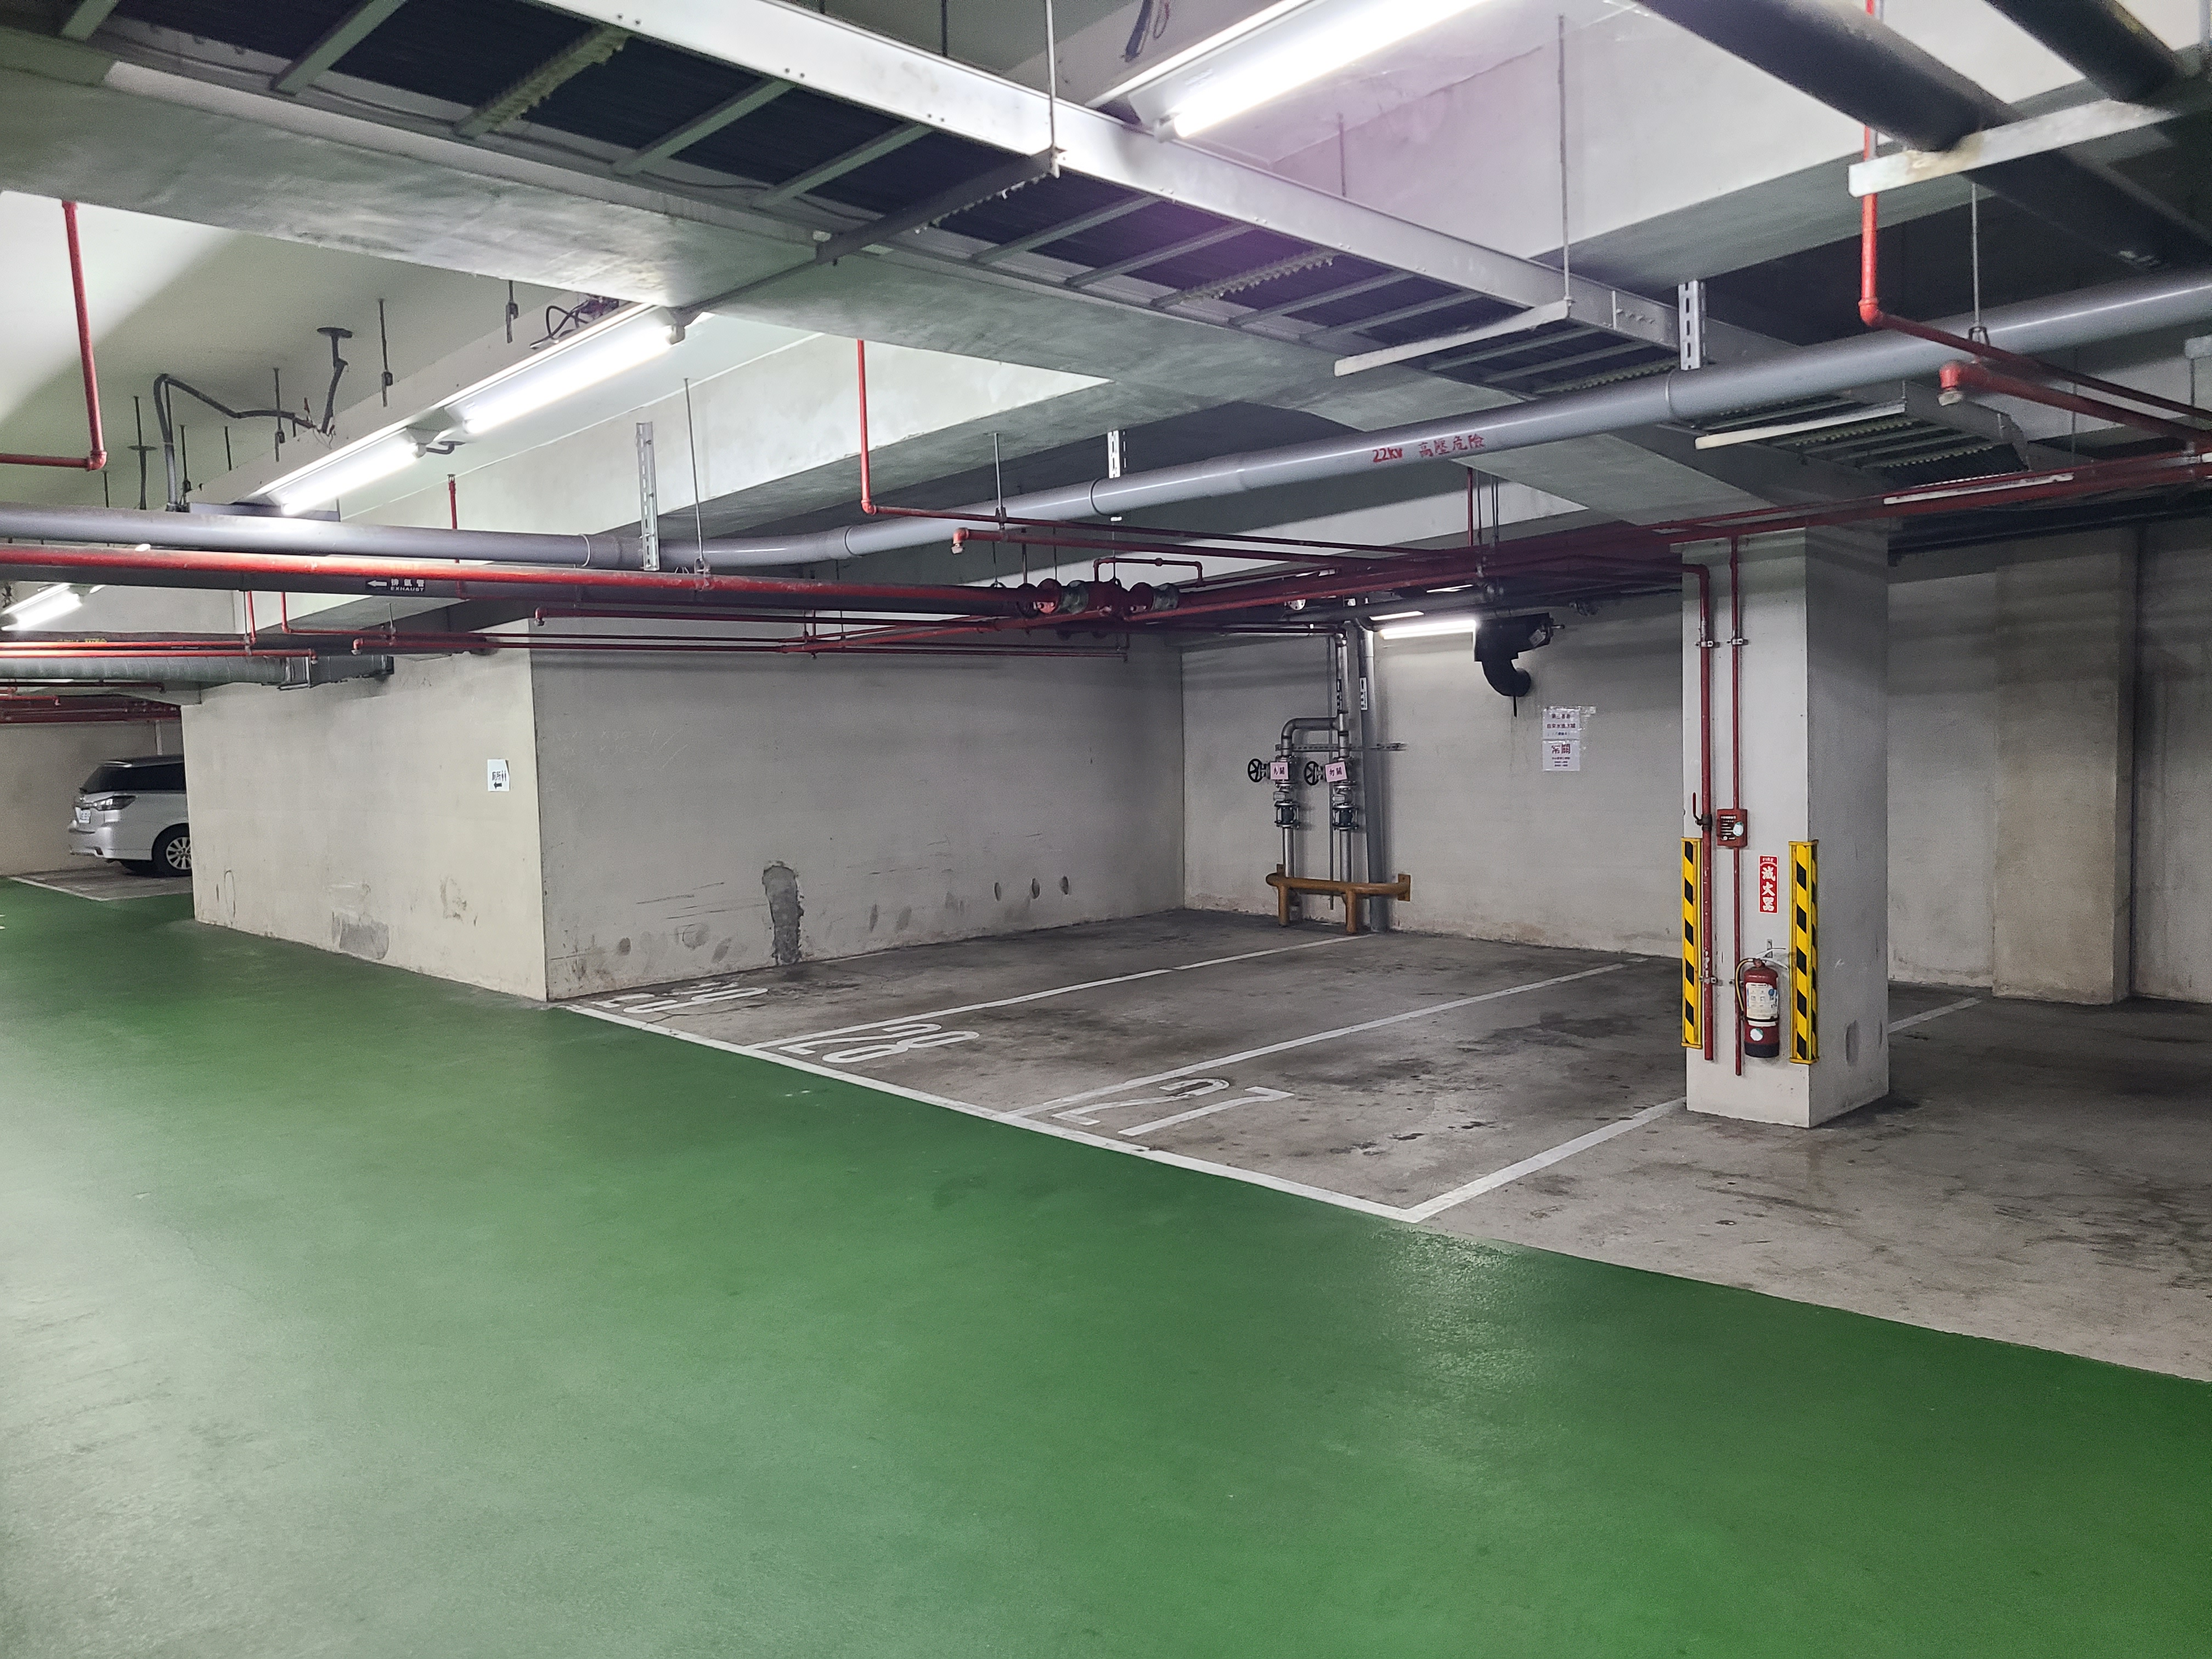car: (64, 748, 185, 884)
